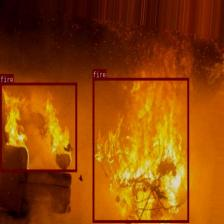fire: (92, 77, 189, 222), (0, 82, 76, 171)
